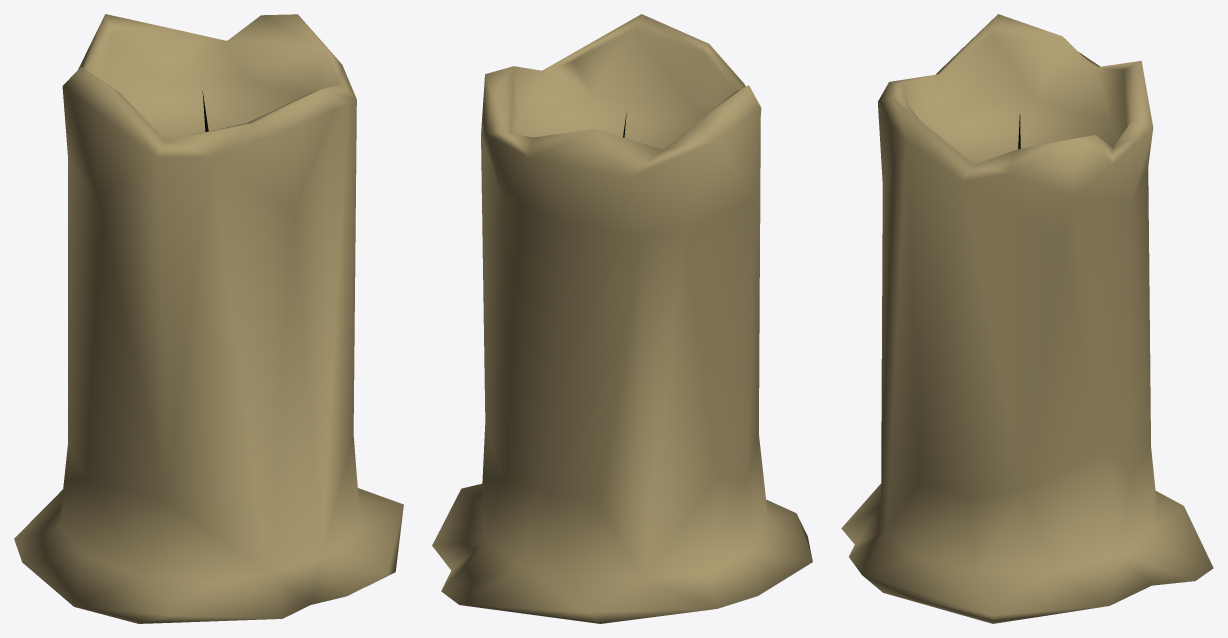
The model's file is candle.dae.
3 renders of one model, left to right at view 1: azimuth 30°, elevation 25°; view 2: azimuth 150°, elevation 25°; view 3: azimuth 270°, elevation 25°, orthographic. The views are drawn at different scales.
Parts seen in each view (by area): view 1: Candle 2; view 2: Candle 2; view 3: Candle 2.
Part boxes in pixels (x1,y1,x2,y2): Candle 2: [14, 14, 403, 623]; Candle 2: [432, 14, 812, 623]; Candle 2: [841, 14, 1213, 623].
Bounding box in the file's own units: 1.73 × 1.71 × 2.4.
